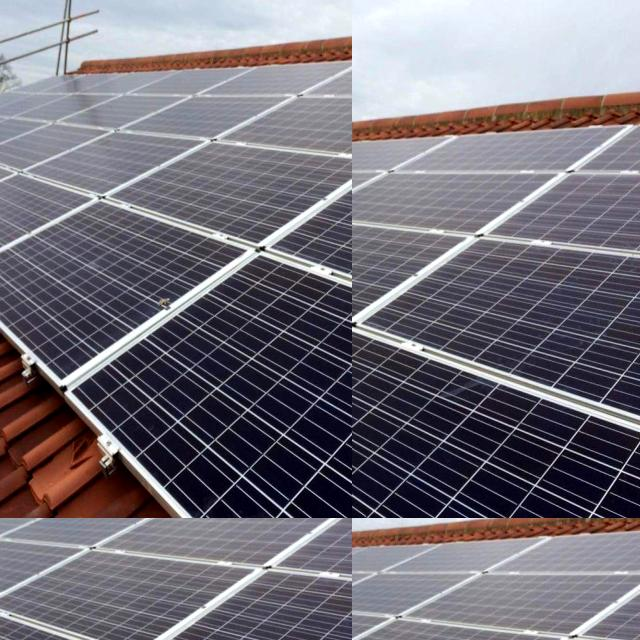crack: (409, 543, 640, 640), (352, 588, 568, 640), (448, 591, 640, 640), (352, 593, 455, 640)
dust: (352, 477, 572, 518)
panel: (0, 0, 53, 27), (22, 518, 83, 541), (0, 518, 32, 541), (0, 518, 26, 535), (0, 518, 26, 529), (0, 518, 26, 525)
